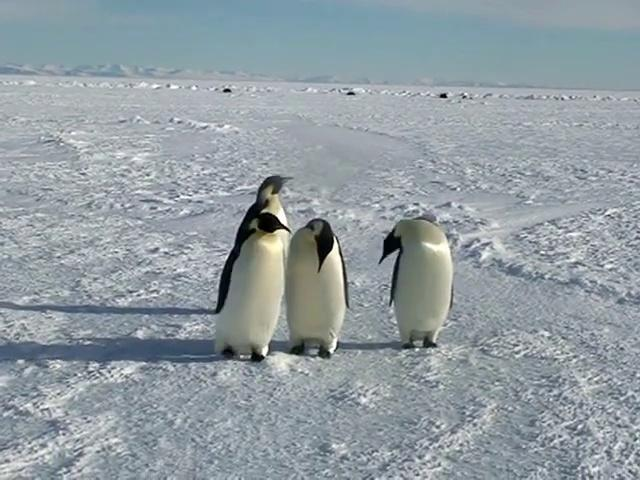animal: (380, 215, 452, 348)
